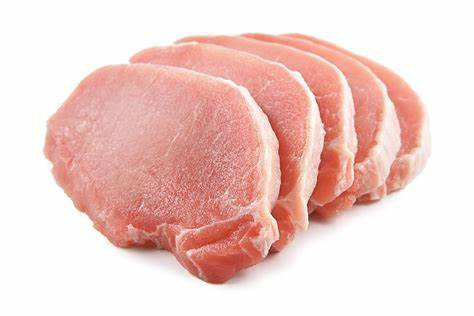Pork: (35, 58, 285, 294), (127, 40, 326, 261), (170, 30, 362, 248), (238, 27, 405, 242), (268, 28, 432, 225)
